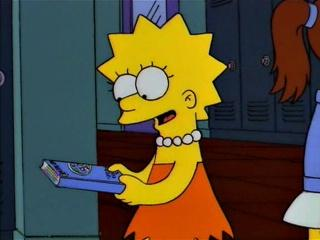Lisa: (73, 8, 249, 239)
